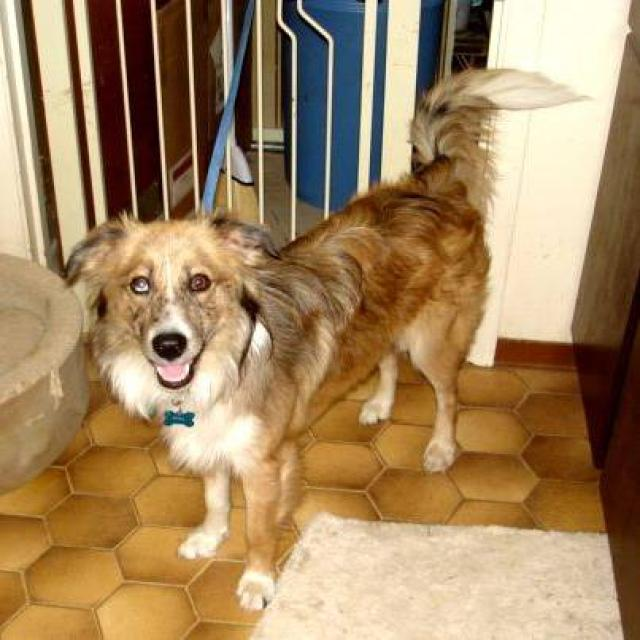dog: (60, 64, 591, 613)
